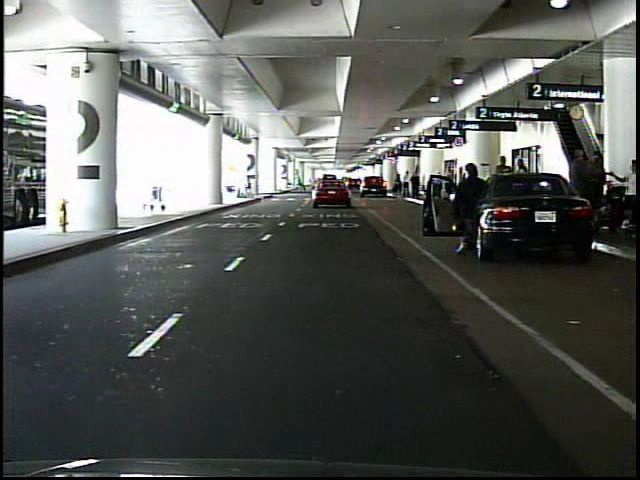person: (455, 157, 484, 260), (565, 145, 594, 228), (615, 160, 639, 233), (494, 153, 516, 216), (515, 157, 532, 215), (403, 169, 413, 199), (411, 171, 421, 200), (395, 174, 404, 197), (295, 177, 305, 194), (595, 147, 596, 228)
